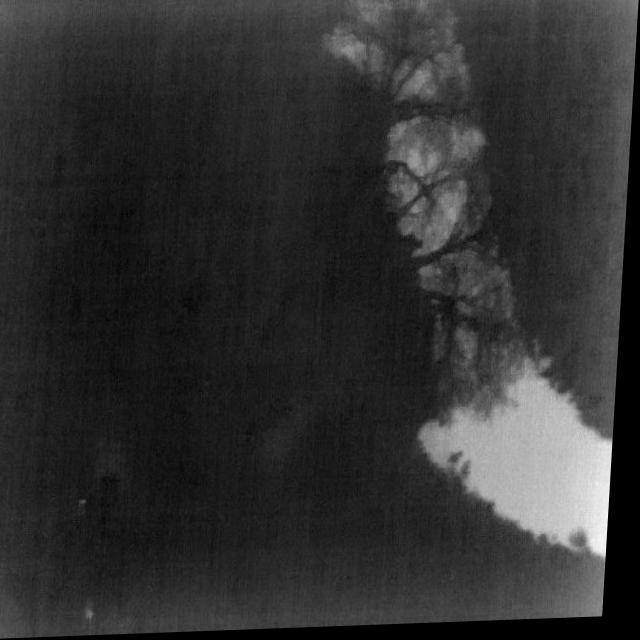deer: (91, 597, 104, 620)
